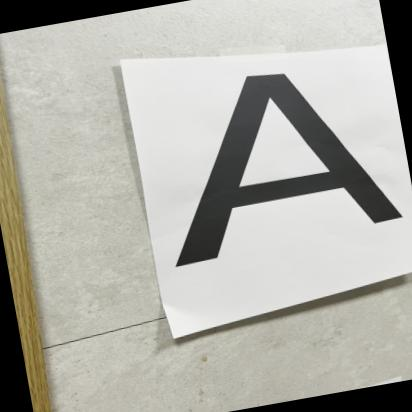seat: (133, 43, 412, 273)
